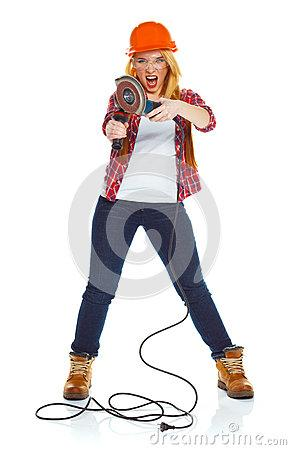helmet: (127, 22, 178, 56)
